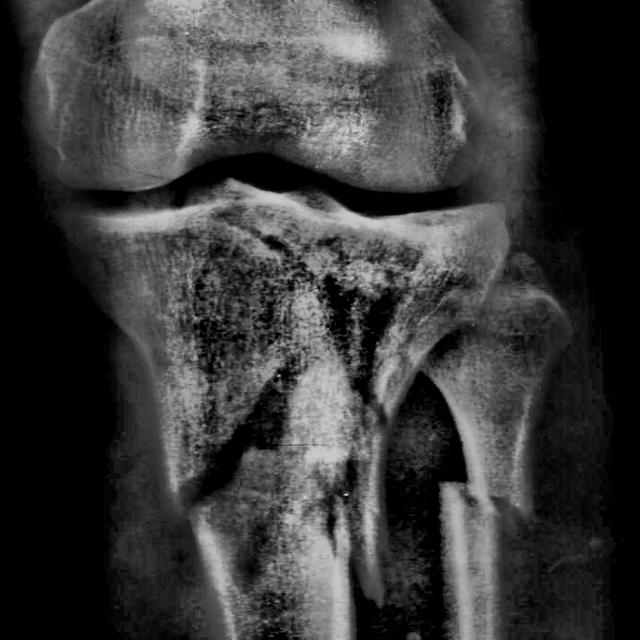messed_up_angle: (165, 216, 394, 605), (438, 474, 545, 532)
